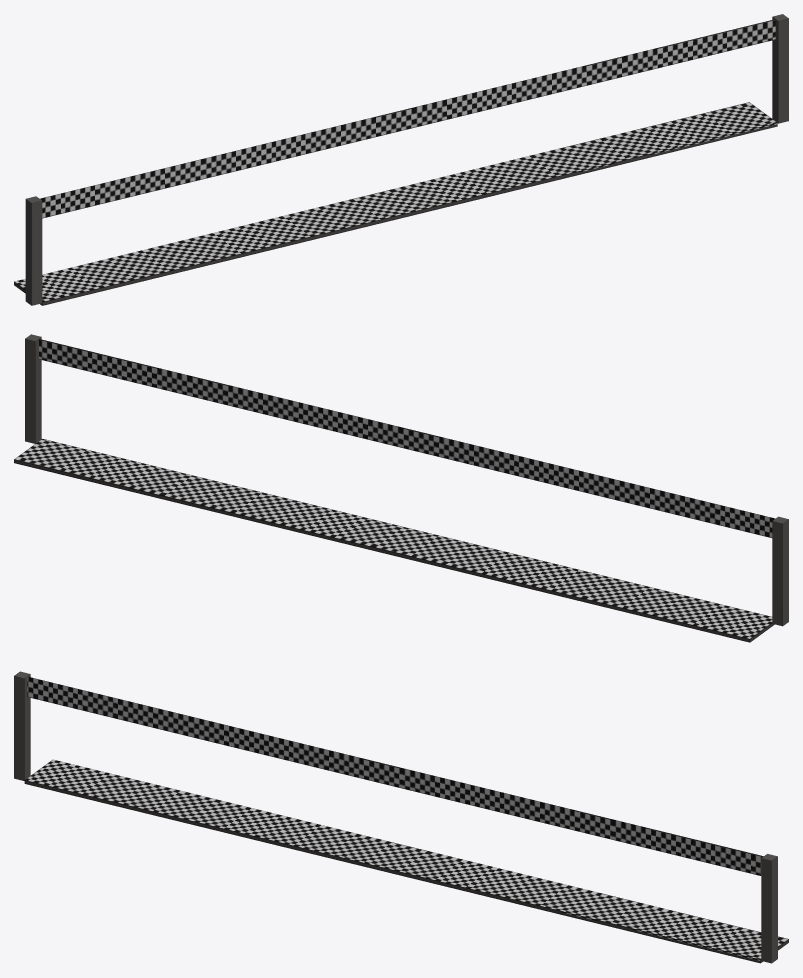
The model's file is Meta.fbx.
The picture shows the model from 3 angles, top to bottom: view 1: azimuth 30°, elevation 25°; view 2: azimuth 150°, elevation 25°; view 3: azimuth 330°, elevation 25°; orthographic projection.
Parts seen in each view (by area): view 1: Cube.001; view 2: Cube.001; view 3: Cube.001.
Part boxes in pixels (box(x1,y1,x2,y2)): Cube.001: box(14, 14, 788, 305); Cube.001: box(14, 334, 788, 642); Cube.001: box(14, 671, 788, 963).
Size of the model in its own units: 3087 by 410 by 200.
